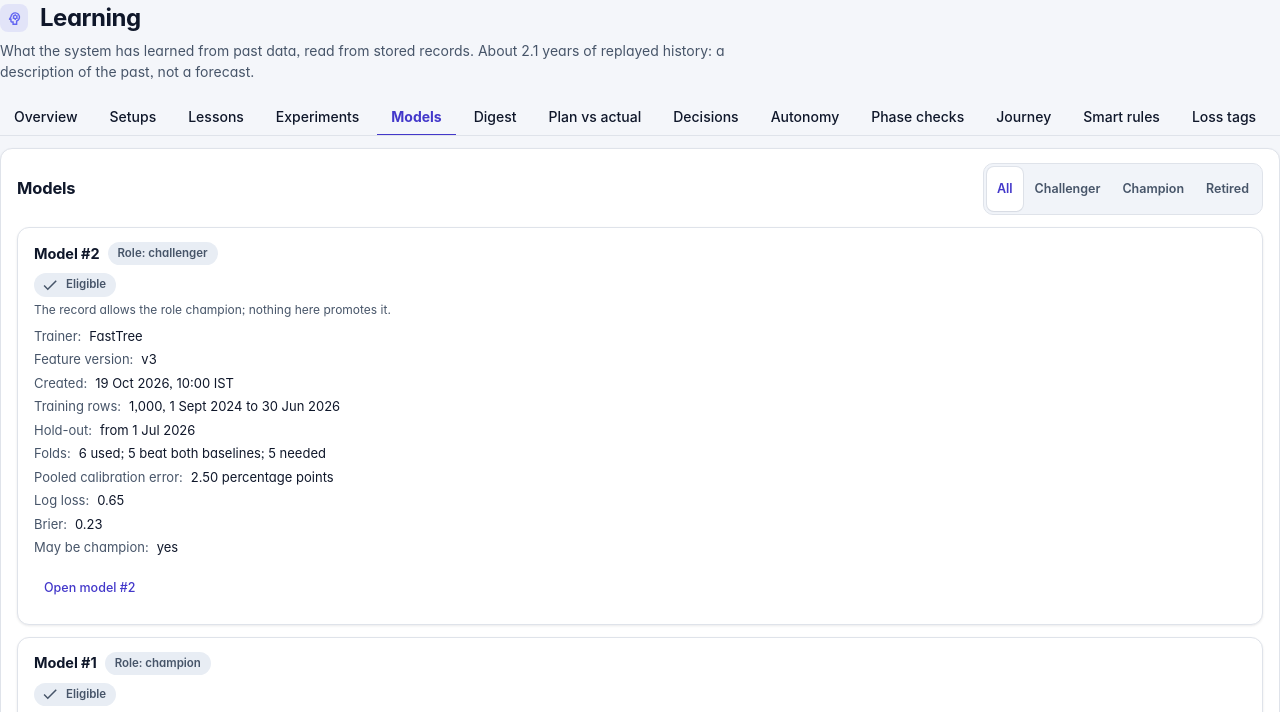
Scenario: Learning, Models tab › filters by role
Check: the heading "Model #1" is shown, box [34,652,97,674]
Click the button "champion" at (1153, 189), box [1112,167,1194,211]
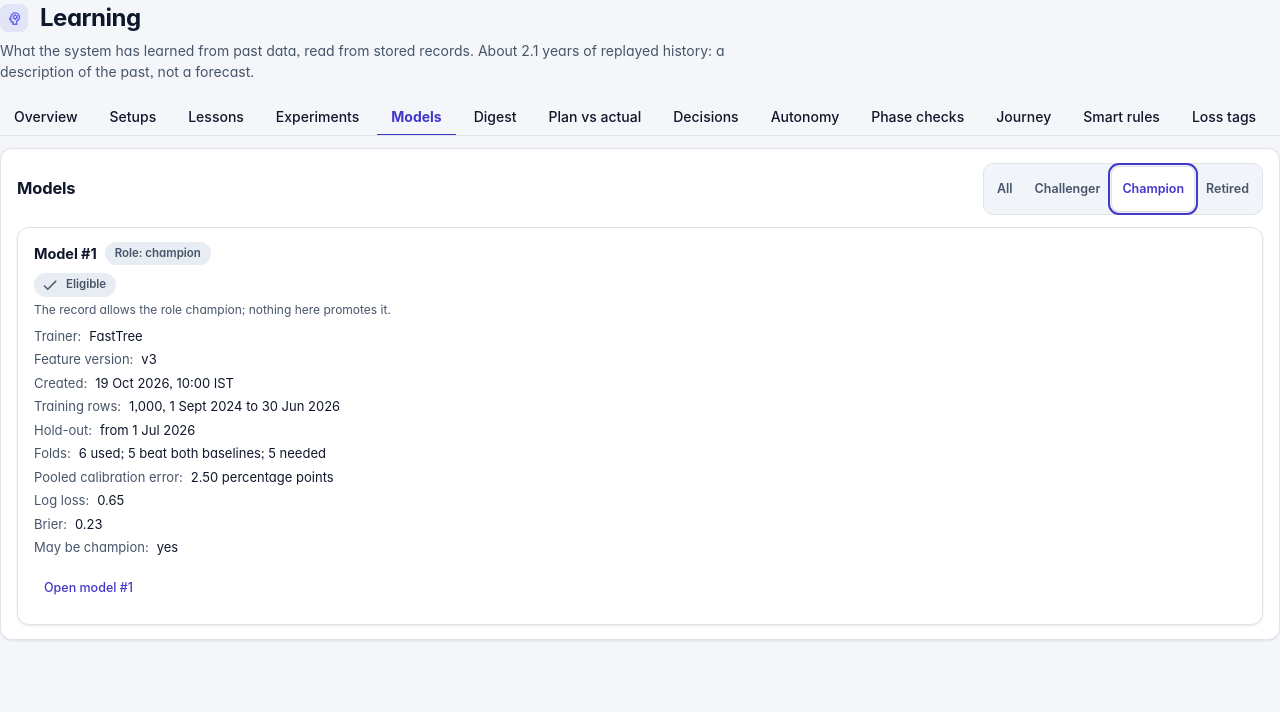
Check: the text "Role: champion" is shown, box [115,246,201,260]
Check: the heading "Model #2" is gone
